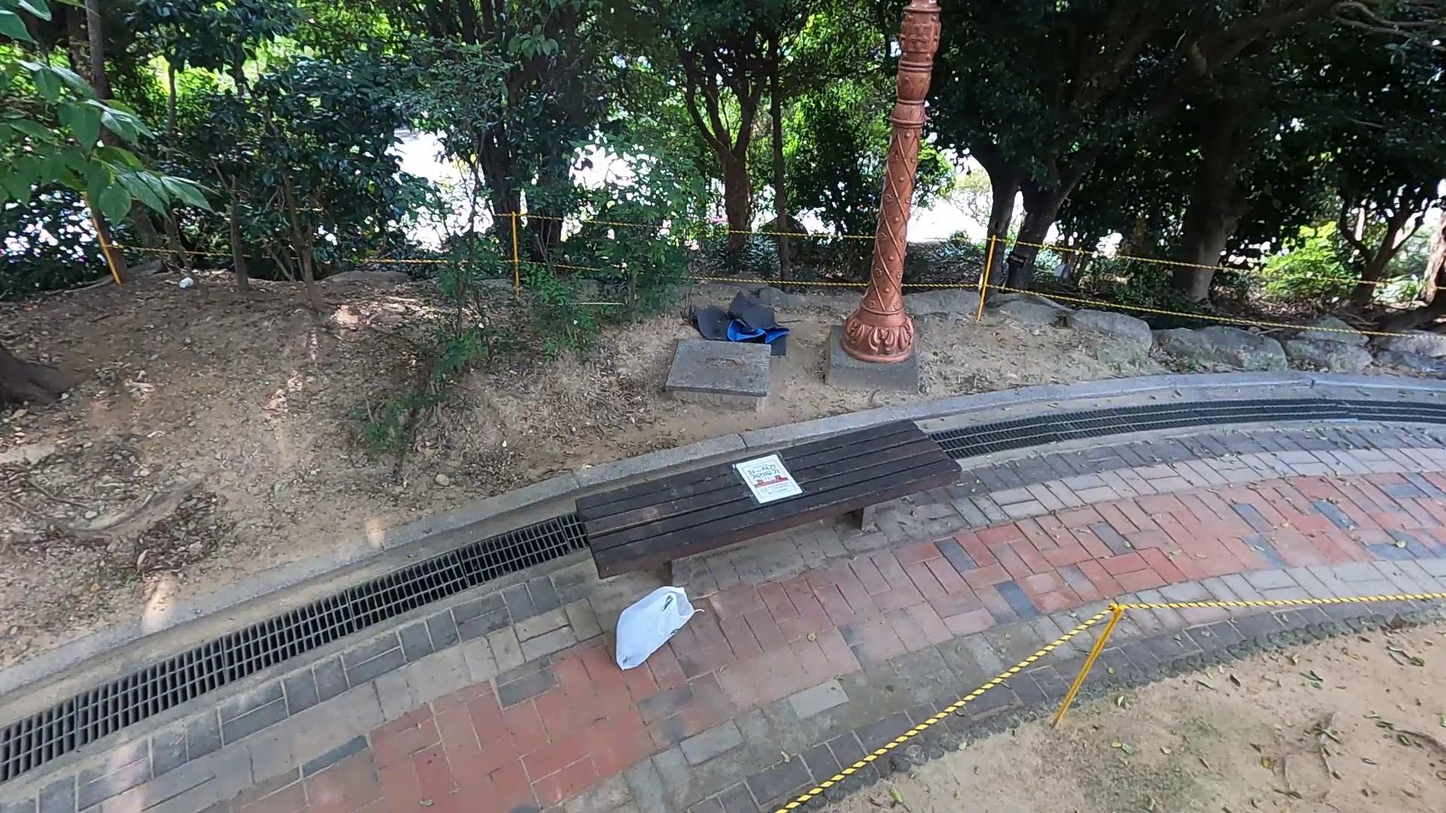trash: (604, 581, 705, 673), (686, 280, 792, 365)
